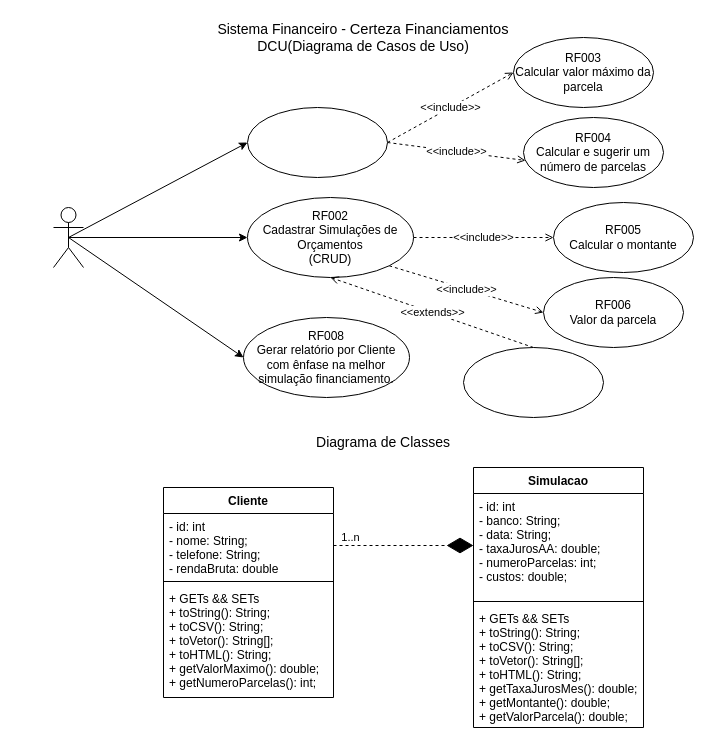
Some shapes in this 711 by 747 pixel diagram are drawn without their labels. The shapes that lost their labels are listed below. From the top down, each one's centre as x and y in pixels, then its label:
the point at 317,142: RF001 Cadastrar Clientes (CRUD)
the point at 68,237: Corretor Financeiro
the point at 533,382: RF007 Transformar Juros ao Ano em ao Mês
